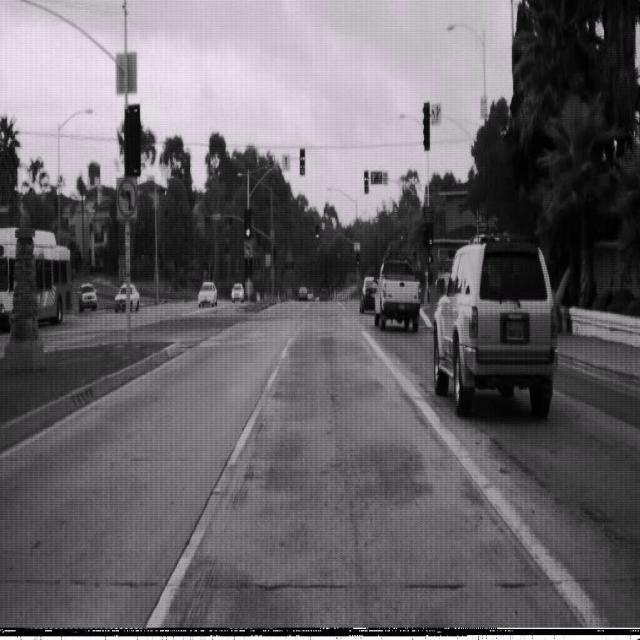noLeftTurn: (116, 175, 138, 221)
